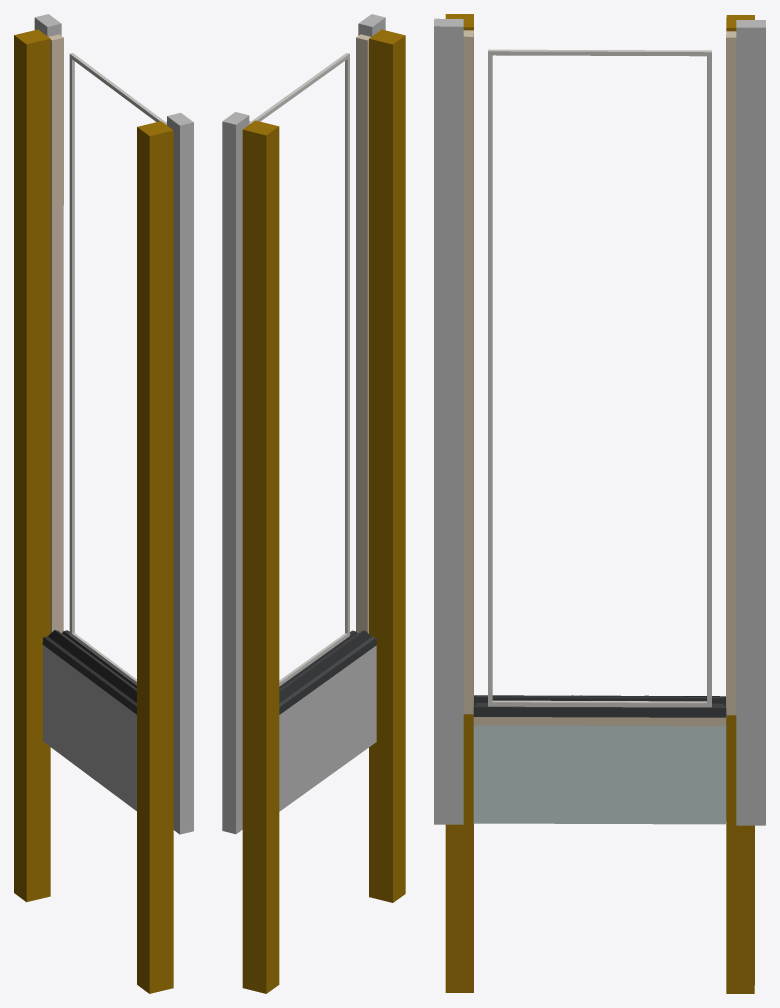
3 renders of one model, left to right at view 1: azimuth 30°, elevation 25°; view 2: azimuth 150°, elevation 25°; view 3: azimuth 270°, elevation 25°, orthographic. The views are drawn at different scales.
Size of the model in its own units: 0.198 by 3.79 by 1.17.
